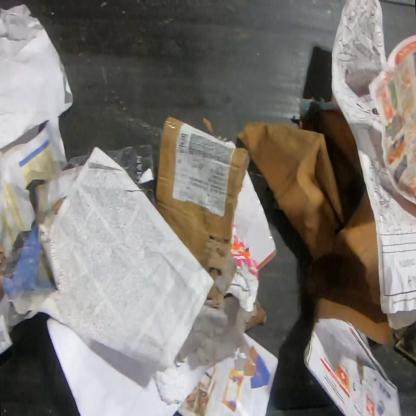cardboard: (236, 107, 393, 346), (156, 117, 250, 305)
